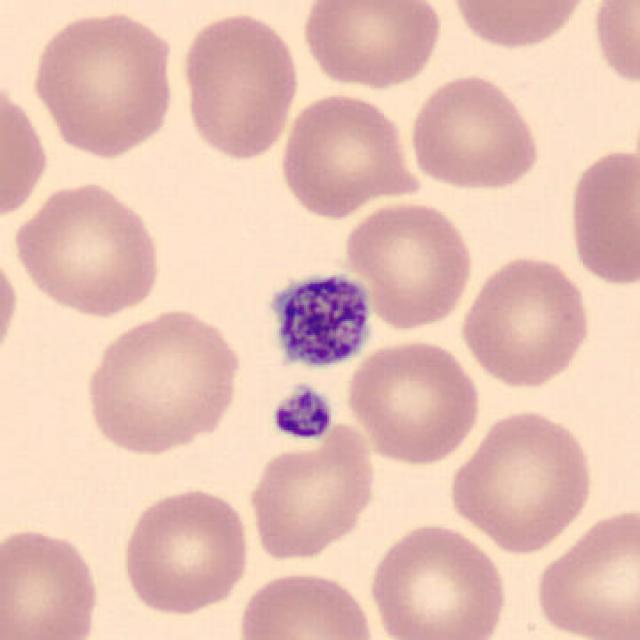Platelets: (261, 264, 377, 372), (267, 382, 336, 442)
RBC: (80, 304, 245, 458), (27, 6, 180, 160), (447, 404, 598, 555), (9, 178, 165, 321), (244, 418, 380, 564), (178, 7, 302, 164), (276, 88, 423, 220), (457, 250, 594, 390), (343, 335, 484, 467), (342, 198, 476, 334), (118, 485, 255, 617), (364, 520, 510, 640), (405, 70, 544, 194), (530, 504, 638, 640), (298, 0, 444, 92), (0, 522, 105, 640), (564, 143, 638, 289), (234, 567, 380, 640), (0, 74, 52, 226), (444, 0, 594, 51), (588, 0, 638, 92), (0, 241, 21, 373)
